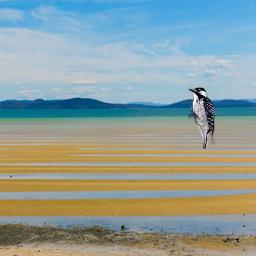Woodpecker: (188, 87, 215, 149)
